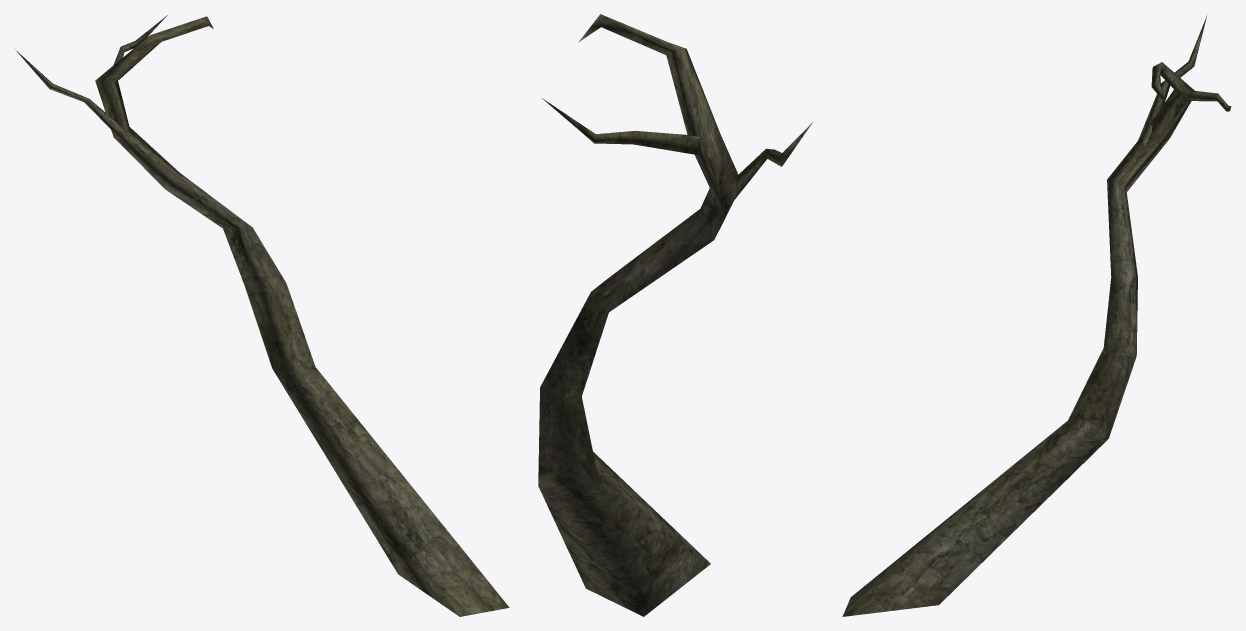
Rendered from TI_Old_Tree_Branch_04.fbx.
The picture shows the model from 3 angles, left to right: view 1: azimuth 30°, elevation 25°; view 2: azimuth 150°, elevation 25°; view 3: azimuth 270°, elevation 25°; orthographic projection. The views are drawn at different scales.
Visible parts, largest first — view 1: TI_Old_Tree_Branch_04; view 2: TI_Old_Tree_Branch_04; view 3: TI_Old_Tree_Branch_04.
Boxes of the visible parts, x1,y1,x2,y2 form: TI_Old_Tree_Branch_04: [15, 15, 509, 616]; TI_Old_Tree_Branch_04: [538, 14, 813, 616]; TI_Old_Tree_Branch_04: [842, 15, 1231, 616].
Bounding box in the file's own units: 2.81 × 4.48 × 3.33.
